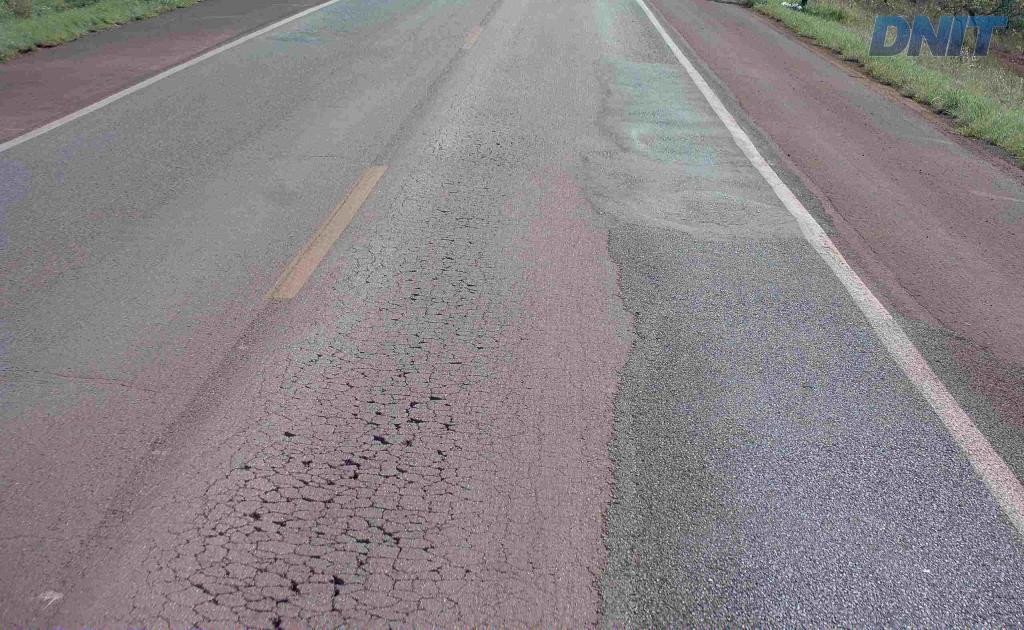crack: (363, 427, 465, 574), (225, 423, 345, 529), (276, 534, 377, 629), (184, 544, 273, 612), (404, 383, 465, 438)
